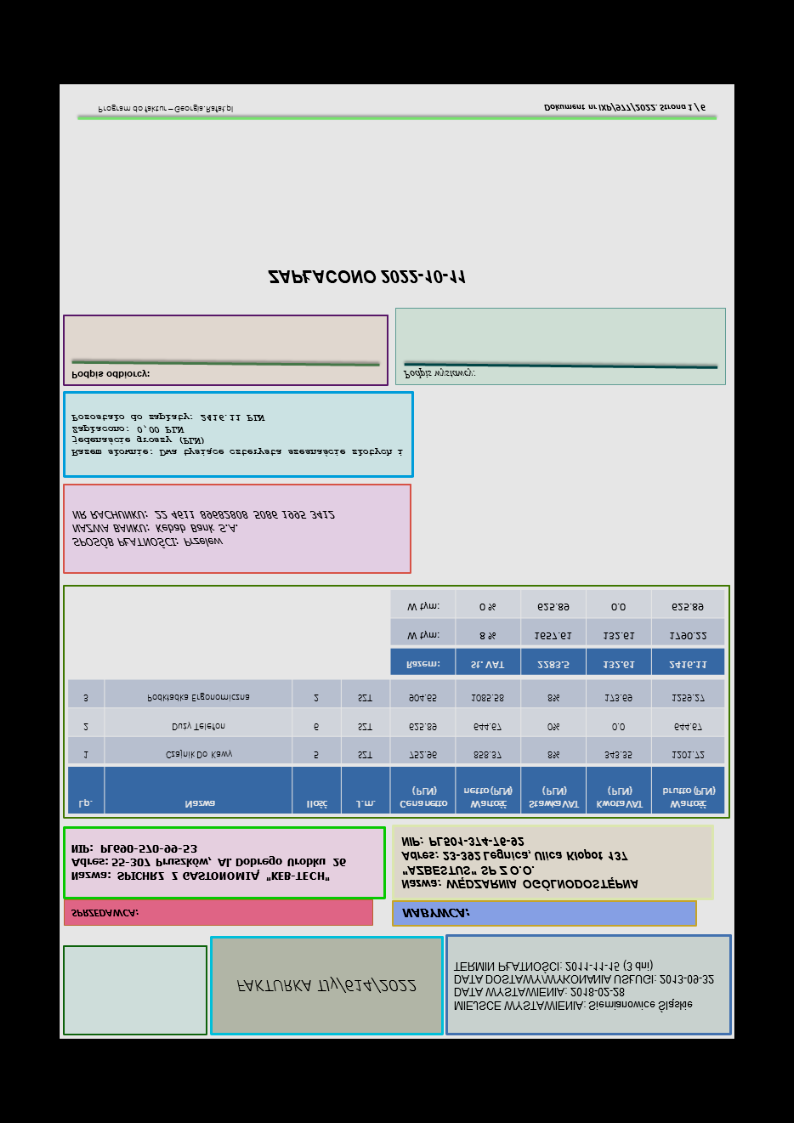Table: (66, 679, 725, 815), (389, 589, 726, 677)
TextBox: (70, 411, 403, 458), (451, 957, 716, 1013), (399, 836, 640, 892), (70, 842, 347, 883), (69, 508, 336, 550), (265, 268, 468, 287), (234, 977, 417, 995), (542, 101, 706, 113), (95, 103, 235, 115), (400, 366, 476, 383), (69, 367, 151, 382), (68, 905, 139, 921), (400, 906, 471, 921)
